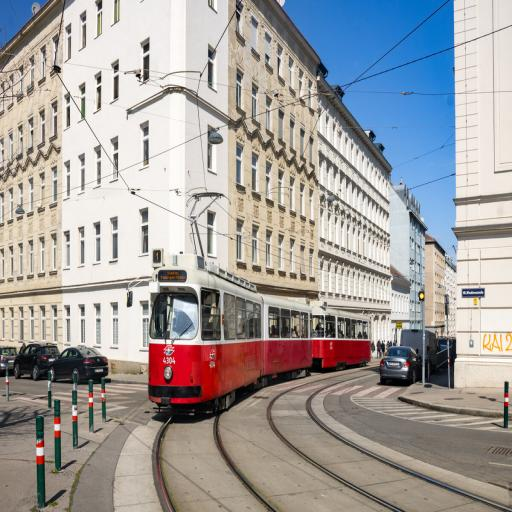E2-Tram: (146, 247, 372, 407)
